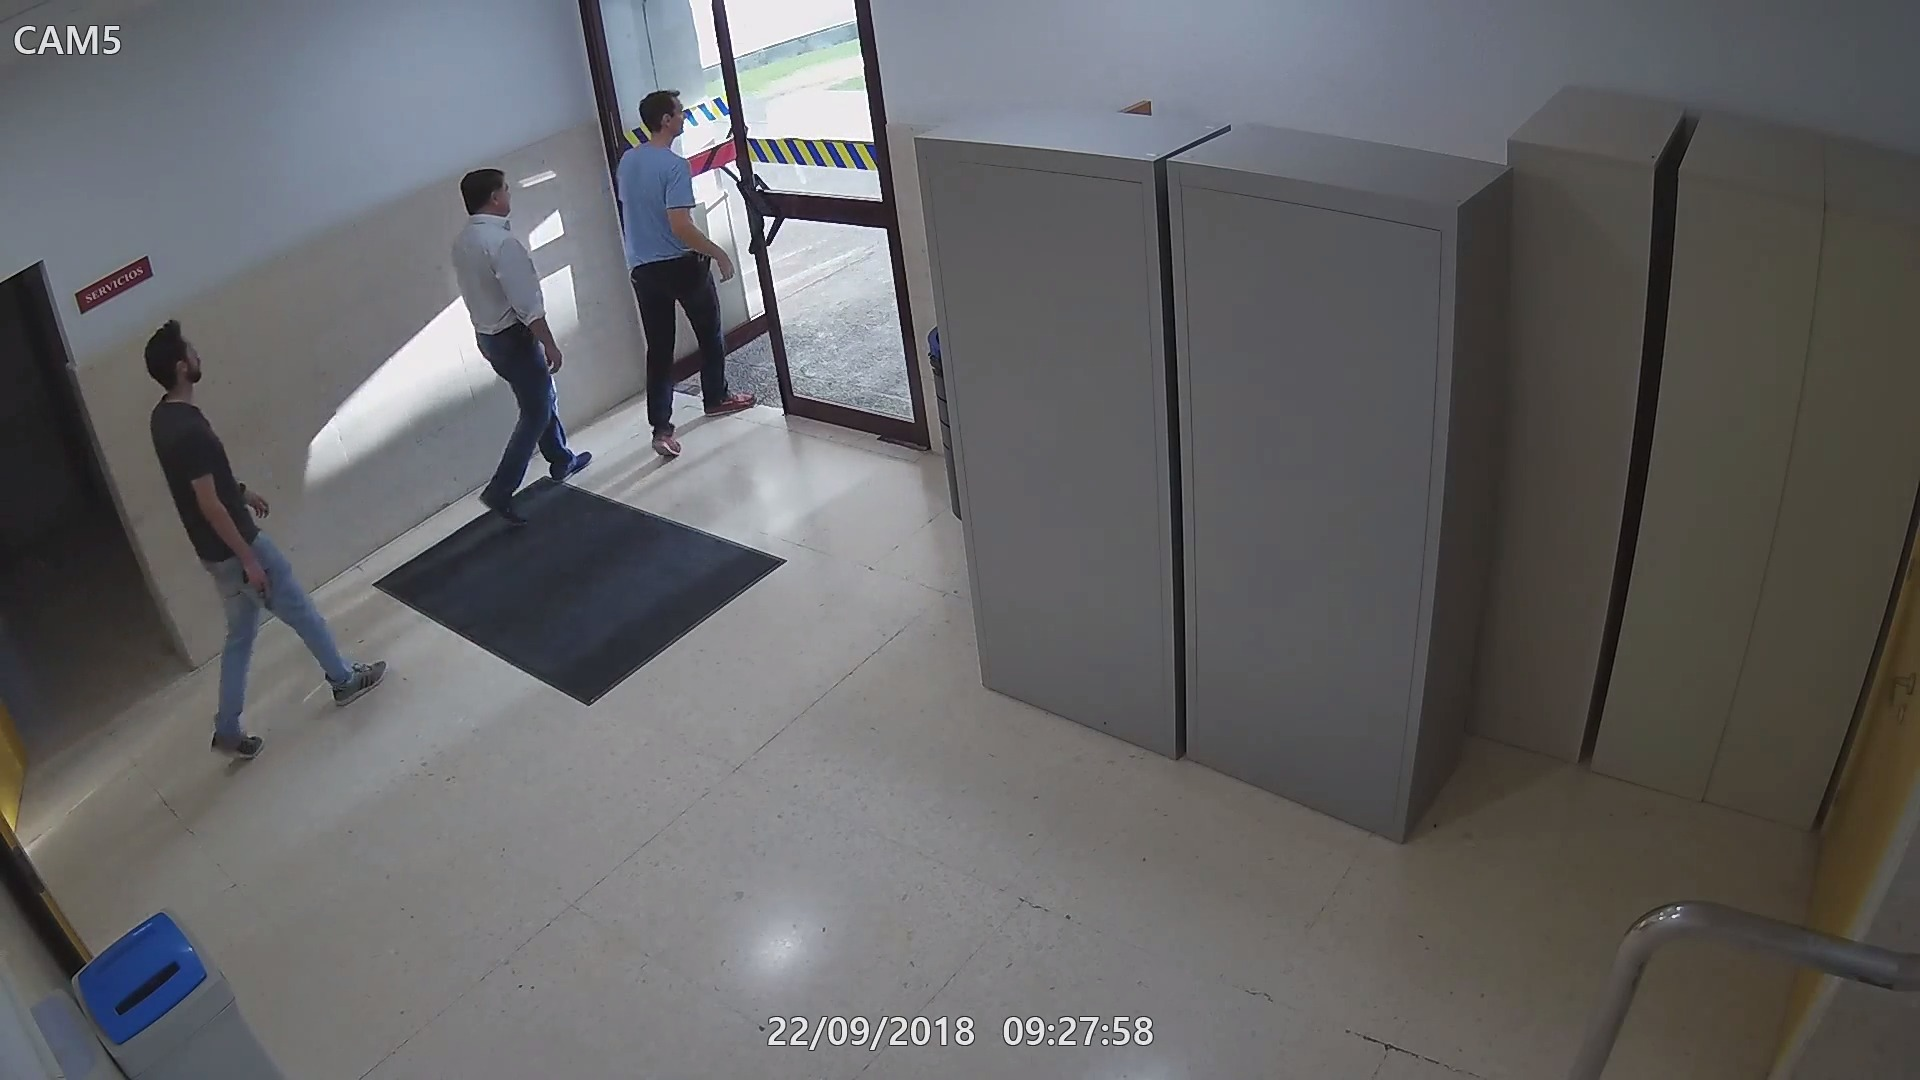Handgun: (236, 564, 277, 615), (514, 313, 538, 356), (686, 247, 713, 280)
